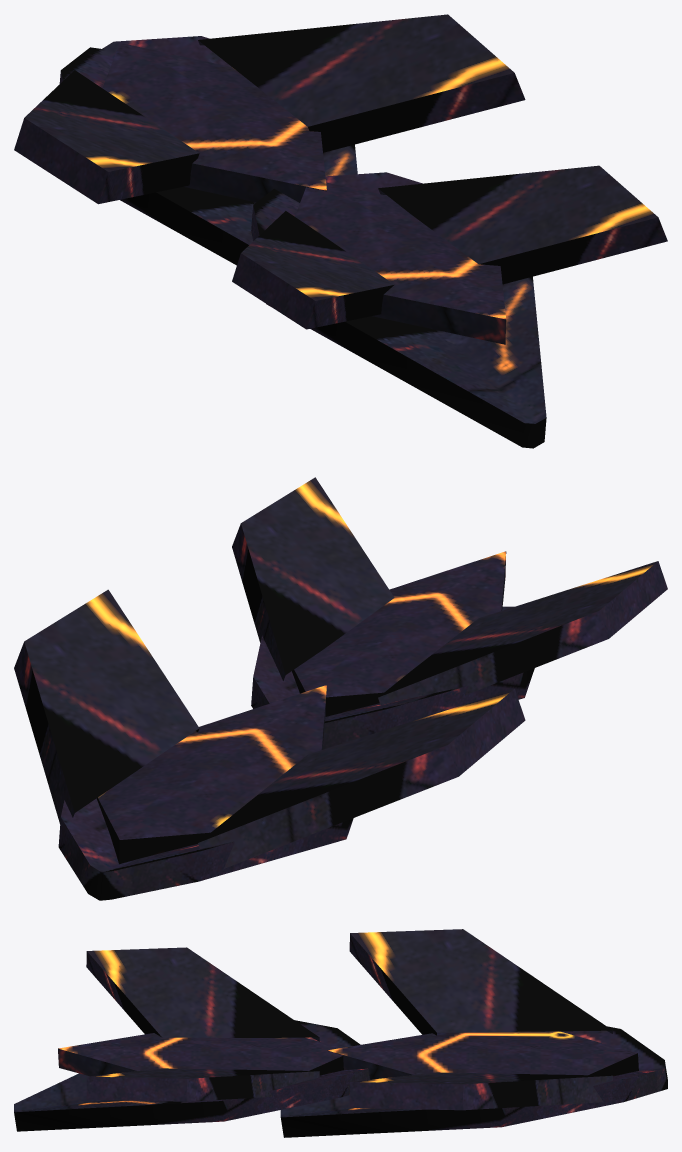
Rendered from ship16g.fbx.
3 views of the same model, one above another, from view 1: azimuth 30°, elevation 25°; view 2: azimuth 150°, elevation 25°; view 3: azimuth 270°, elevation 25° (orthographic). The views are drawn at different scales.
Parts seen in each view (by area): view 1: PipelineFBX; view 2: PipelineFBX; view 3: PipelineFBX.
Boxes of the visible parts, x1,y1,x2,y2 form: PipelineFBX: (14, 14, 667, 448); PipelineFBX: (14, 477, 667, 900); PipelineFBX: (14, 929, 667, 1137).
Size of the model in its own units: 70.77 by 26.29 by 120.
Materials: 1 (1 with a texture image).
